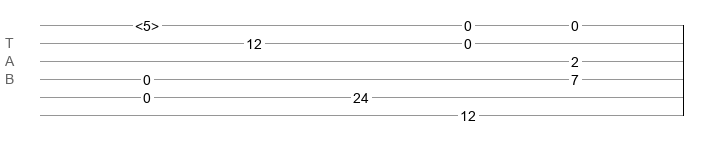0: (143, 90, 151, 100), (143, 72, 151, 82), (464, 36, 472, 46), (464, 18, 472, 28), (571, 18, 579, 28)
12: (246, 36, 262, 46), (460, 108, 476, 118)
2: (571, 54, 579, 64)
24: (353, 90, 369, 100)
7: (571, 72, 579, 82)
harmonic: (135, 18, 159, 28)
